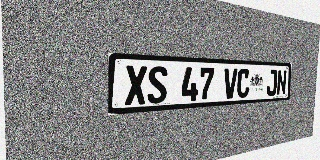4: (181, 67, 199, 102)
7: (198, 67, 214, 101)
C: (237, 69, 250, 98)
J: (266, 69, 277, 96)
N: (276, 70, 287, 95)
S: (147, 66, 168, 104)
V: (223, 68, 237, 99)
X: (125, 65, 147, 105)
